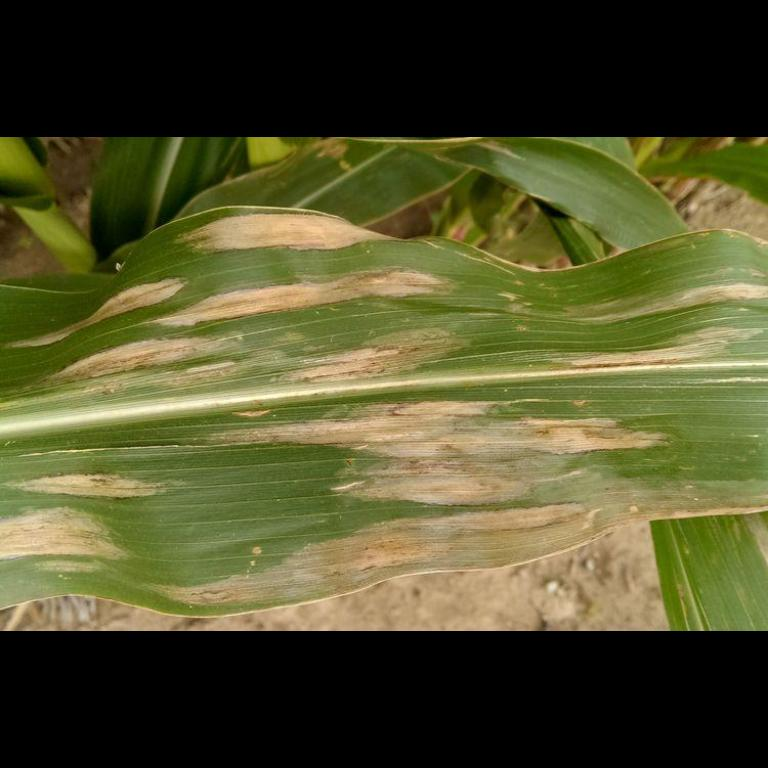blight: (89, 296, 422, 378)
